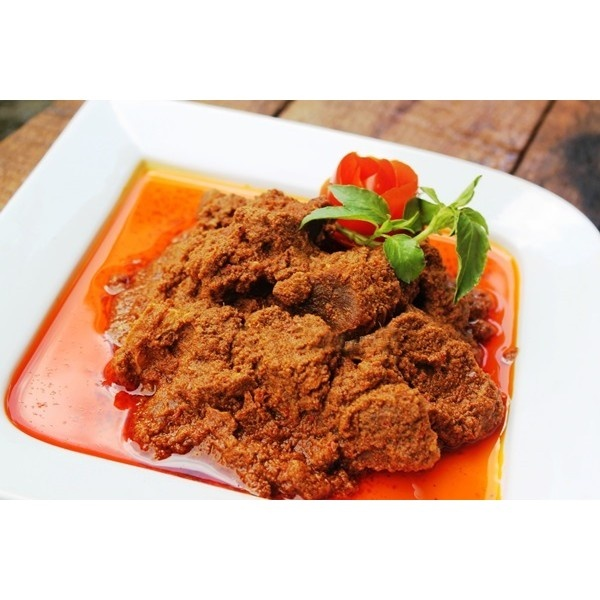rendang: (104, 187, 509, 499)
